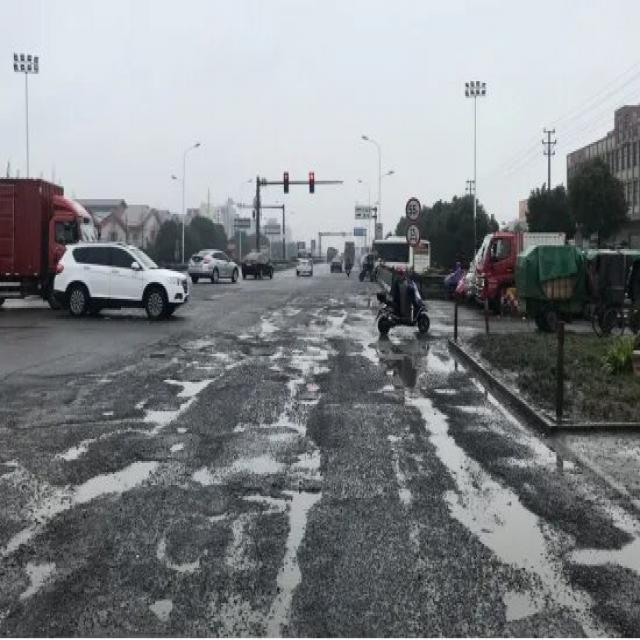Pothole: (416, 402, 608, 638), (244, 478, 328, 630), (65, 450, 158, 516), (273, 324, 340, 394), (155, 361, 219, 406)
